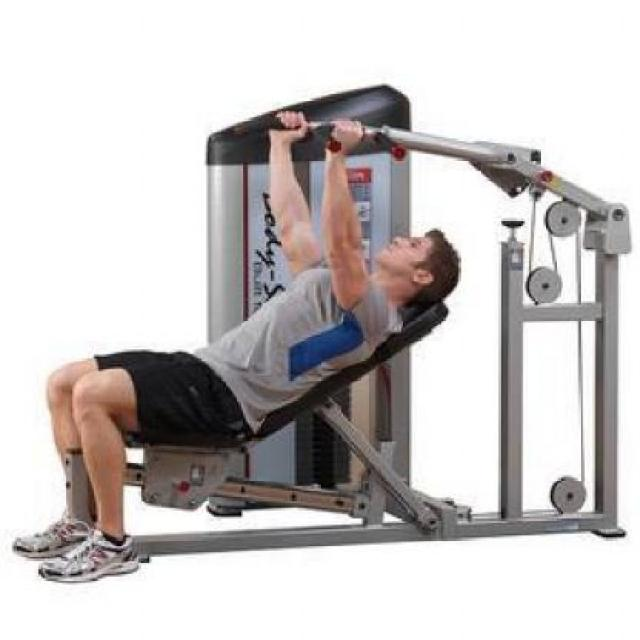shoulder press machine: (7, 46, 640, 604)
